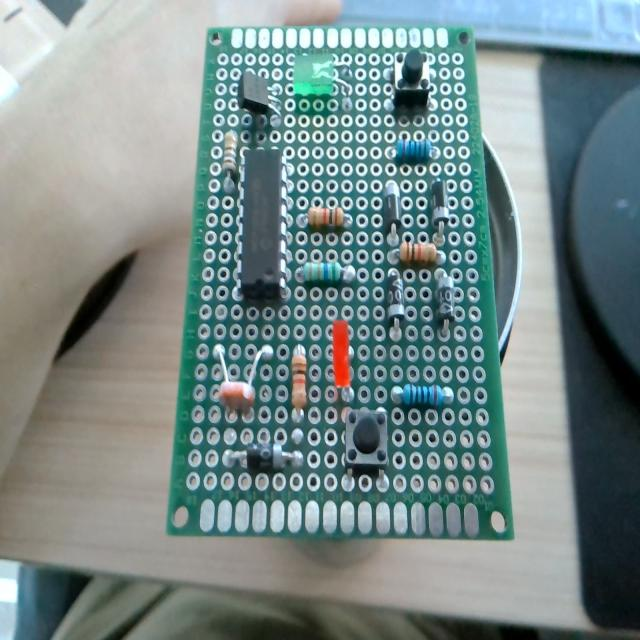IC: (240, 151, 284, 301)
cds: (206, 338, 276, 434)
diode: (226, 444, 304, 470), (431, 178, 450, 238), (386, 269, 405, 329), (436, 274, 456, 330), (384, 181, 401, 236)
led: (321, 316, 362, 398), (292, 52, 333, 96)
resistor: (392, 383, 453, 408), (292, 344, 308, 410), (302, 262, 351, 283), (401, 241, 437, 265), (397, 139, 434, 162), (308, 206, 345, 228), (222, 130, 238, 178)
switch: (344, 408, 388, 478), (392, 48, 431, 108)
transistor: (235, 68, 284, 121)
